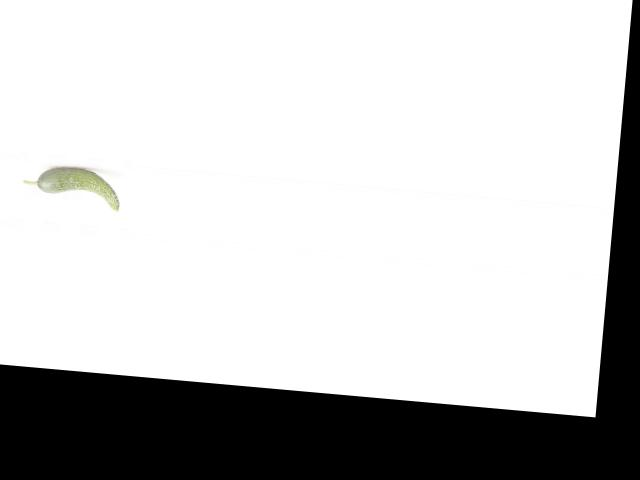cucumber: (21, 163, 122, 210)
